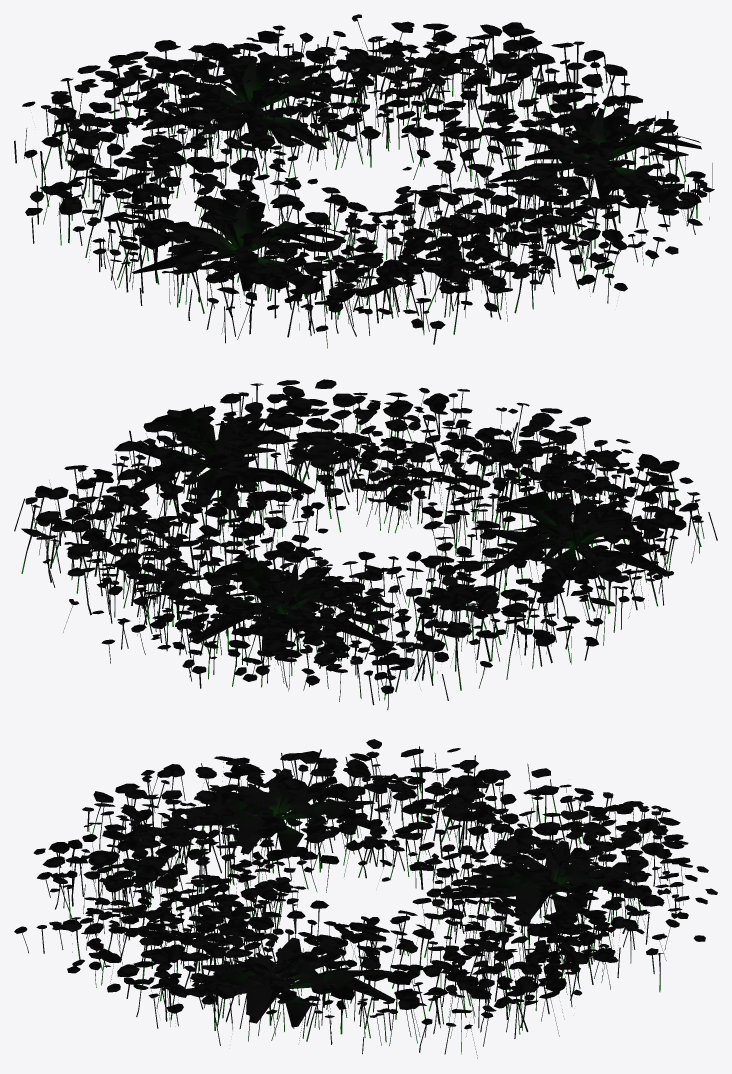
File: WithTree.fbx
3 views of the same model, one above another, from view 1: azimuth 30°, elevation 25°; view 2: azimuth 150°, elevation 25°; view 3: azimuth 270°, elevation 25° (orthographic). The views are drawn at different scales.
Parts seen in each view (by area): view 1: Var1_LOD2; view 2: Var1_LOD2; view 3: Var1_LOD2.
Part boxes in pixels (left/top/right/bottom): Var1_LOD2: left=14, top=14, right=714, bottom=348; Var1_LOD2: left=14, top=379, right=717, bottom=710; Var1_LOD2: left=14, top=739, right=717, bottom=1058.
Size of the model in its own units: 101 by 9.52 by 107.
